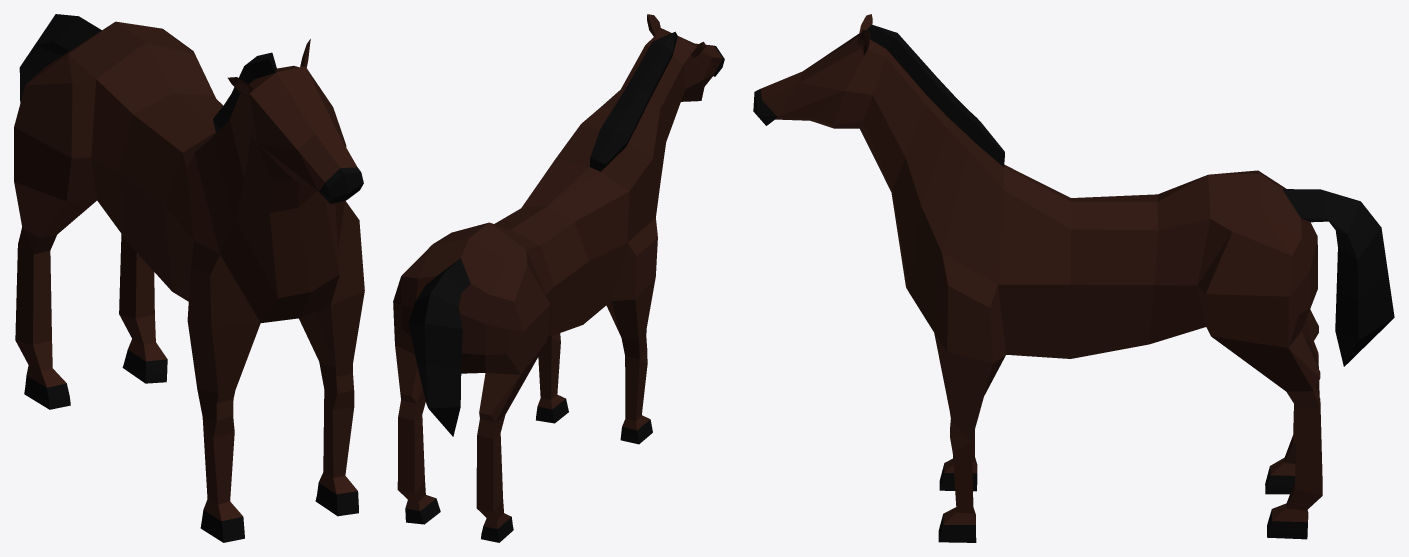
The model's file is Horse_000003.obj.
3 renders of one model, left to right at view 1: azimuth 30°, elevation 25°; view 2: azimuth 150°, elevation 25°; view 3: azimuth 270°, elevation 25°, orthographic. The views are drawn at different scales.
Visible parts, largest first — view 1: Horse_Cylinder; view 2: Horse_Cylinder; view 3: Horse_Cylinder.
Part boxes in pixels (x1=…): Horse_Cylinder: x1=14, y1=14, x2=364, y2=542; Horse_Cylinder: x1=393, y1=14, x2=724, y2=542; Horse_Cylinder: x1=753, y1=14, x2=1394, y2=542.
Bounding box in the file's own units: 2.81 × 7.43 × 9.12.
